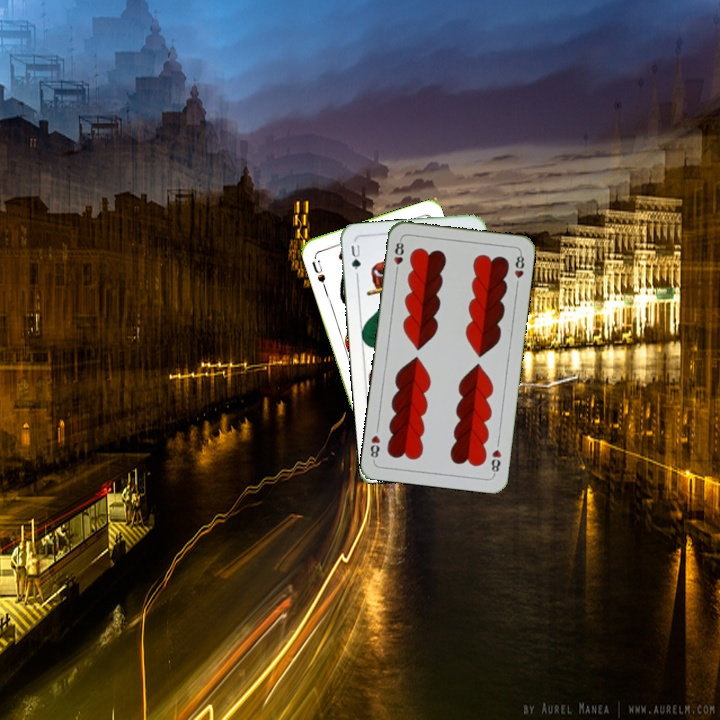GU: (347, 240, 364, 272)
H8: (390, 235, 406, 276), (487, 445, 504, 477)
SU: (308, 251, 328, 291)
